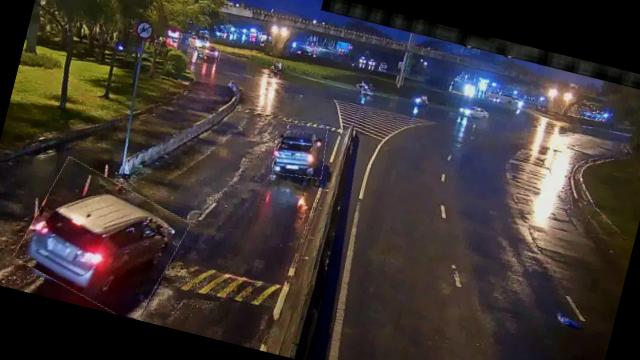Car: (13, 159, 191, 323), (268, 118, 332, 182), (200, 44, 222, 61)
